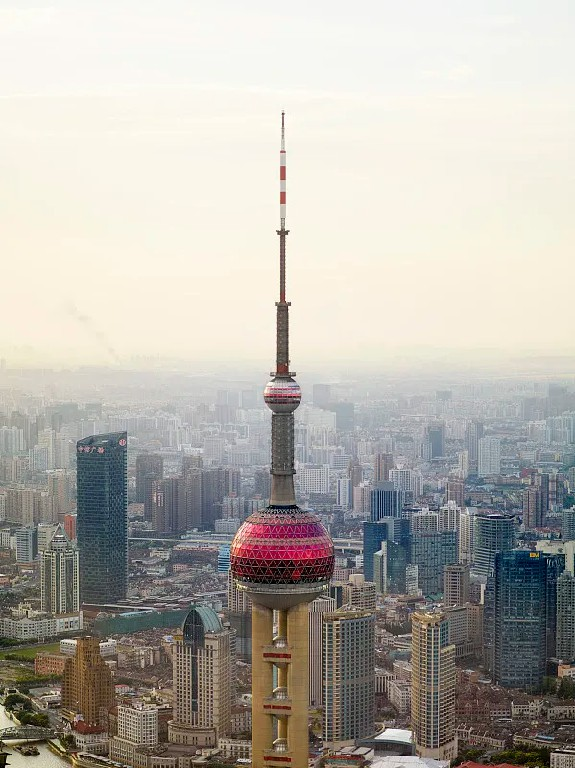Oriental: (231, 111, 335, 768)
